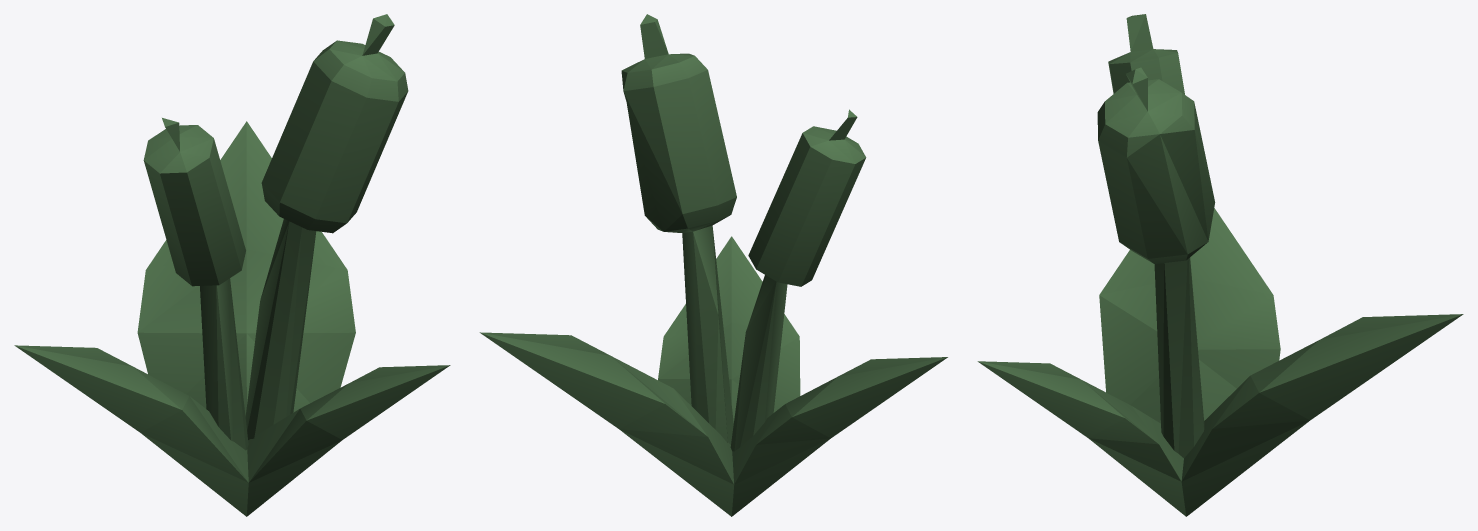
File: plant_reed_2.glb
3 renders of one model, left to right at view 1: azimuth 30°, elevation 25°; view 2: azimuth 150°, elevation 25°; view 3: azimuth 270°, elevation 25°, orthographic. The views are drawn at different scales.
Parts seen in each view (by area): view 1: plant_reed_2; view 2: plant_reed_2; view 3: plant_reed_2.
Boxes of the visible parts, <box> form: plant_reed_2: <box>14,14,450,516</box>; plant_reed_2: <box>479,14,947,516</box>; plant_reed_2: <box>977,14,1463,516</box>.
Size of the model in its own units: 0.9402 by 1.2 by 1.05.
